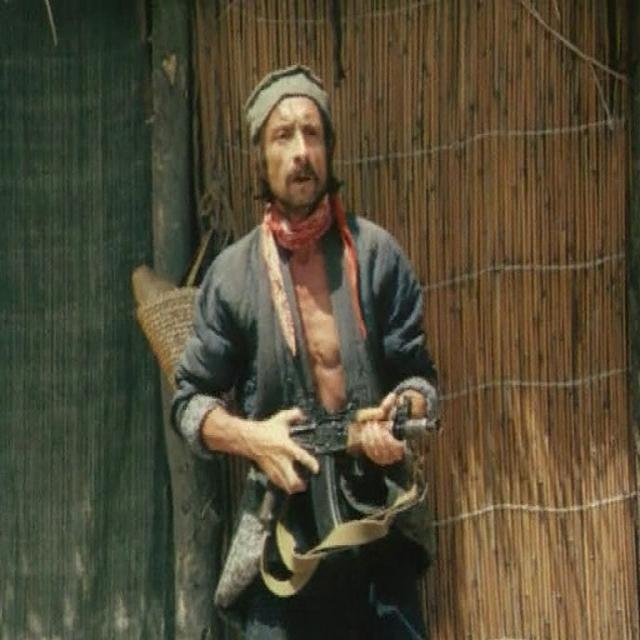gun-knife-thesis - v11 Yolov5 augmented: (187, 397, 426, 555)
